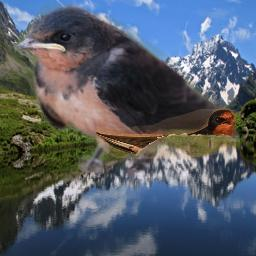Swallow: (14, 4, 240, 177), (96, 108, 236, 159)
